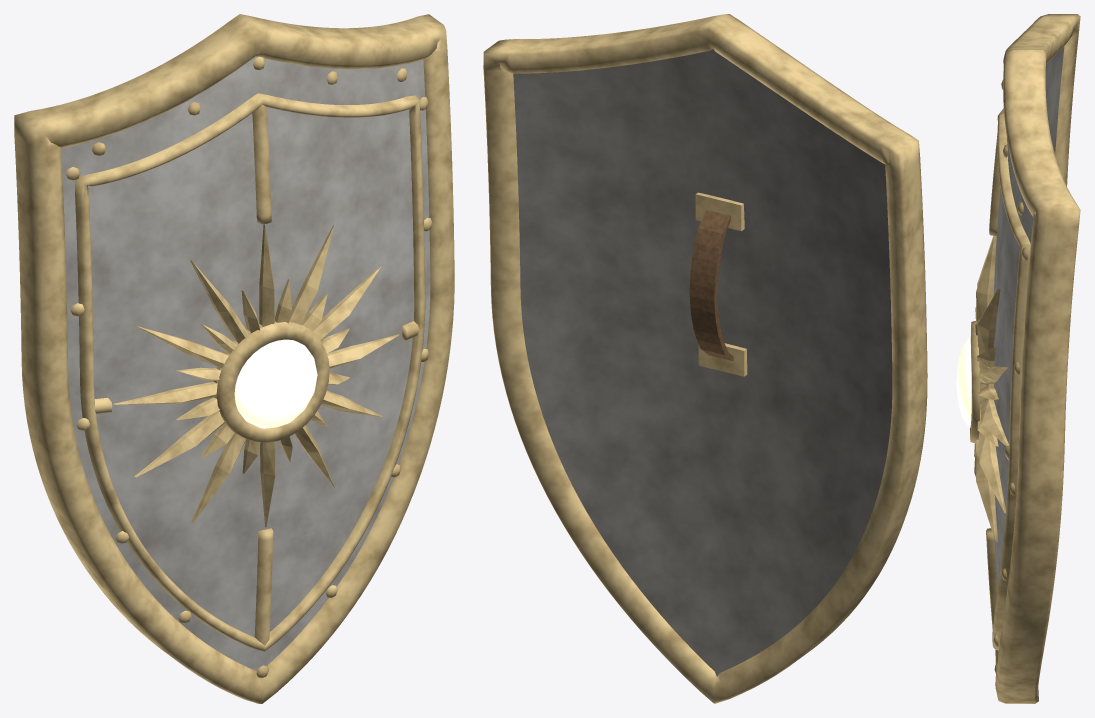
Rendered from white_paladin_shield.glb.
3 renders of one model, left to right at view 1: azimuth 30°, elevation 25°; view 2: azimuth 150°, elevation 25°; view 3: azimuth 270°, elevation 25°, orthographic. The views are drawn at different scales.
Visible parts, largest first — view 1: white_paladin_shield; view 2: white_paladin_shield; view 3: white_paladin_shield.
Boxes of the visible parts, x1,y1,x2,y2 form: white_paladin_shield: (14, 14, 454, 703); white_paladin_shield: (483, 14, 927, 703); white_paladin_shield: (956, 14, 1080, 703).
Bounding box in the file's own units: 0.924 × 1.43 × 0.2468.
Materials: 2 (1 with a texture image).
